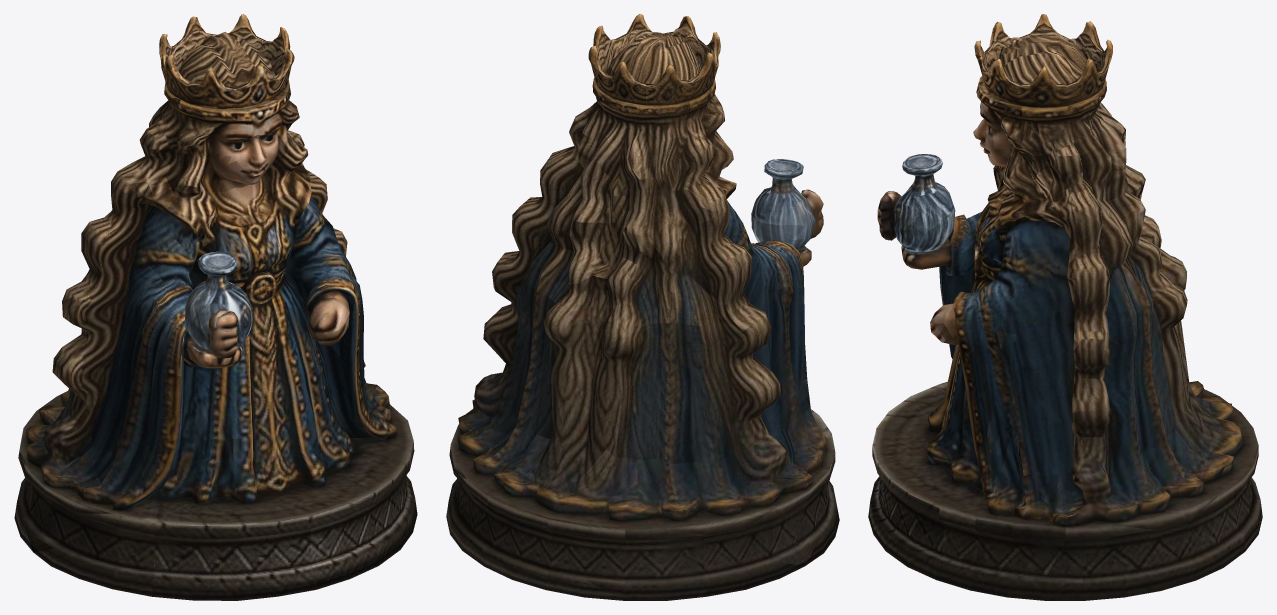
The model's file is elf_queen.glb.
3 renders of one model, left to right at view 1: azimuth 30°, elevation 25°; view 2: azimuth 150°, elevation 25°; view 3: azimuth 270°, elevation 25°, orthographic. The views are drawn at different scales.
Visible parts, largest first — view 1: mesh_node; view 2: mesh_node; view 3: mesh_node.
Part boxes in pixels (x1,y1,x2,y2): mesh_node: (14, 14, 417, 600); mesh_node: (446, 14, 839, 600); mesh_node: (868, 14, 1262, 600).
Size of the model in its own units: 0.7539 by 1 by 0.748.
1 material, 1 textured.
